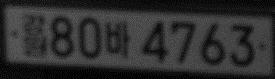0: (78, 16, 103, 59)
3: (231, 23, 255, 68)
4: (141, 21, 168, 62)
6: (200, 23, 225, 66)
7: (170, 21, 195, 63)
8: (50, 16, 74, 57)
강원_V: (22, 13, 46, 58)
바: (104, 21, 130, 57)
